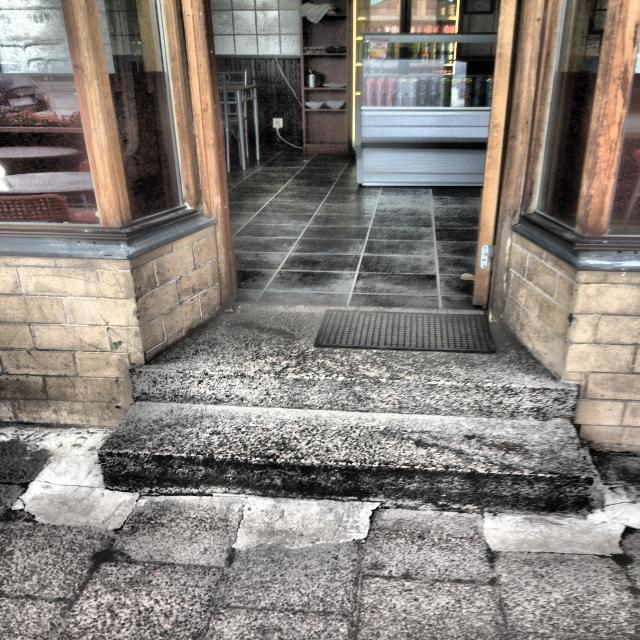escada: (96, 362, 594, 512)
